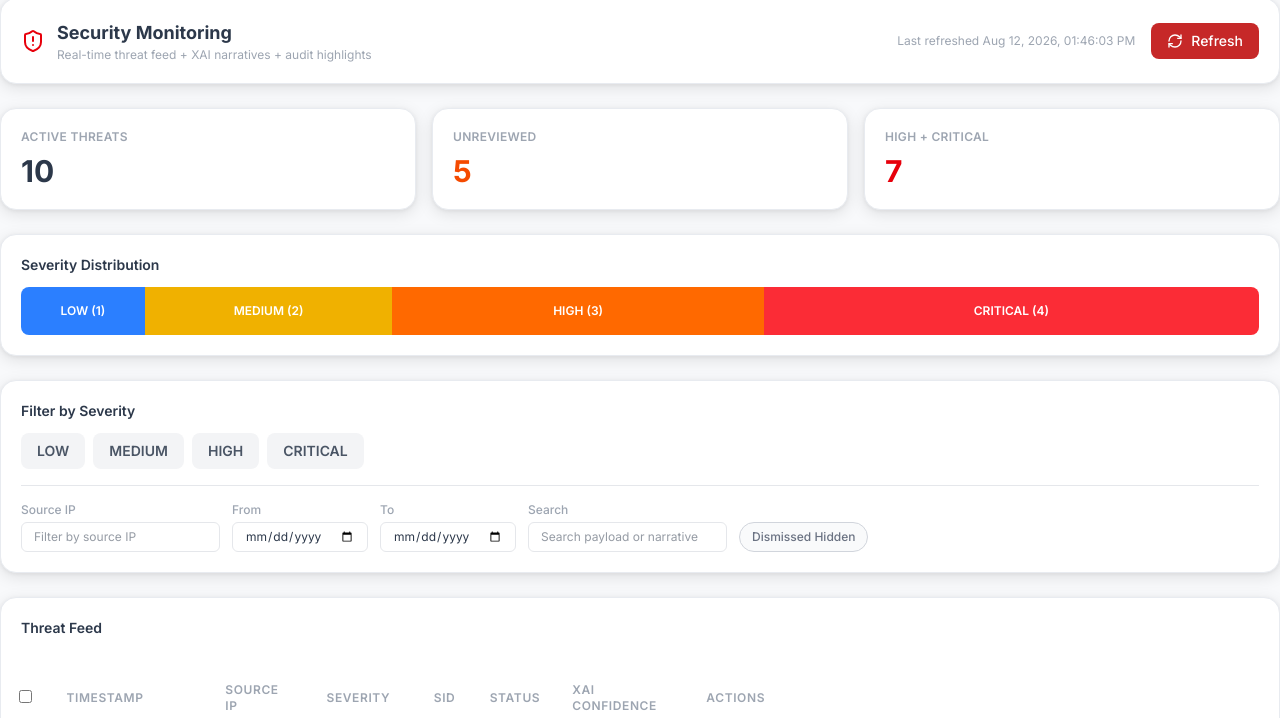
Scenario: M8: Security Monitoring page — bulk actions + S3 (Task 12) › select-all header checkbox toggles all visible rows
// Header checkbox (index 0)
Step 1. Click the checkbox → (25, 696), box [18,690,32,703]
(page scrolled)
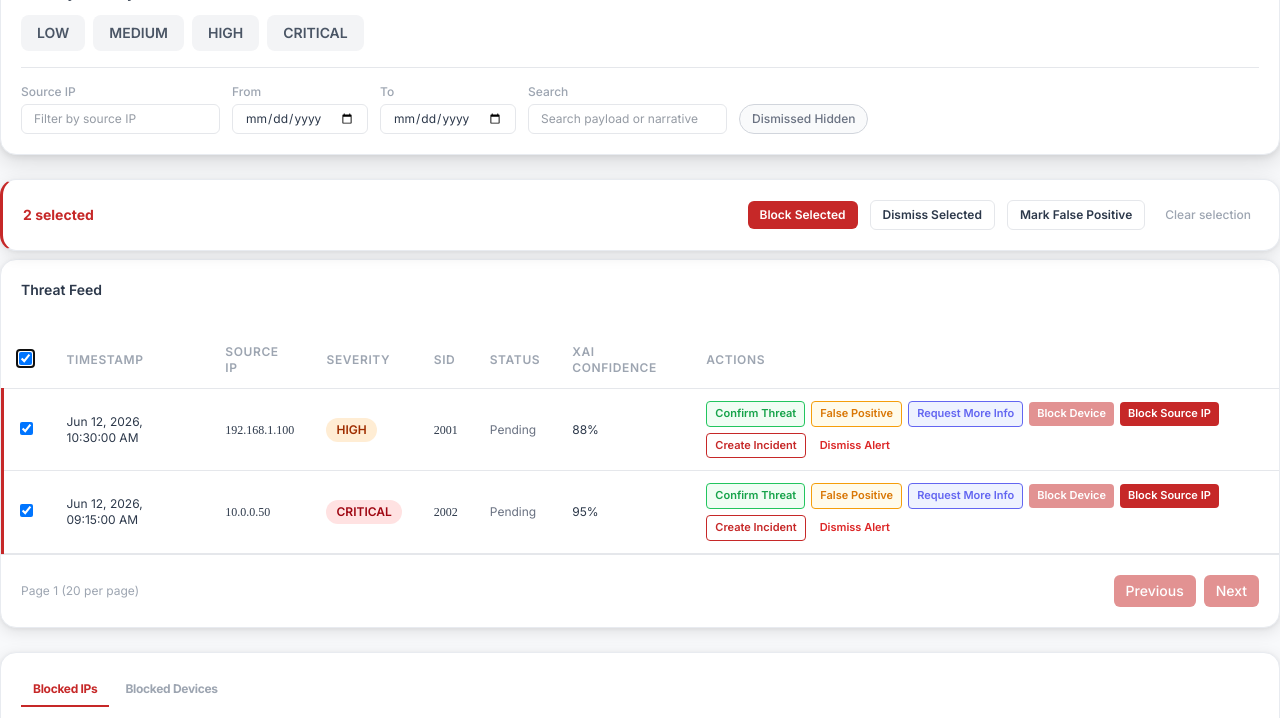
Now the element with test id "bulk-action-bar" is shown, box [0,179,1279,251]
Now the text "2 selected" is shown, box [23,205,94,225]
// Click again to deselect
Step 2. Click the checkbox next to "Timestamp" → (25, 358), box [18,352,32,365]
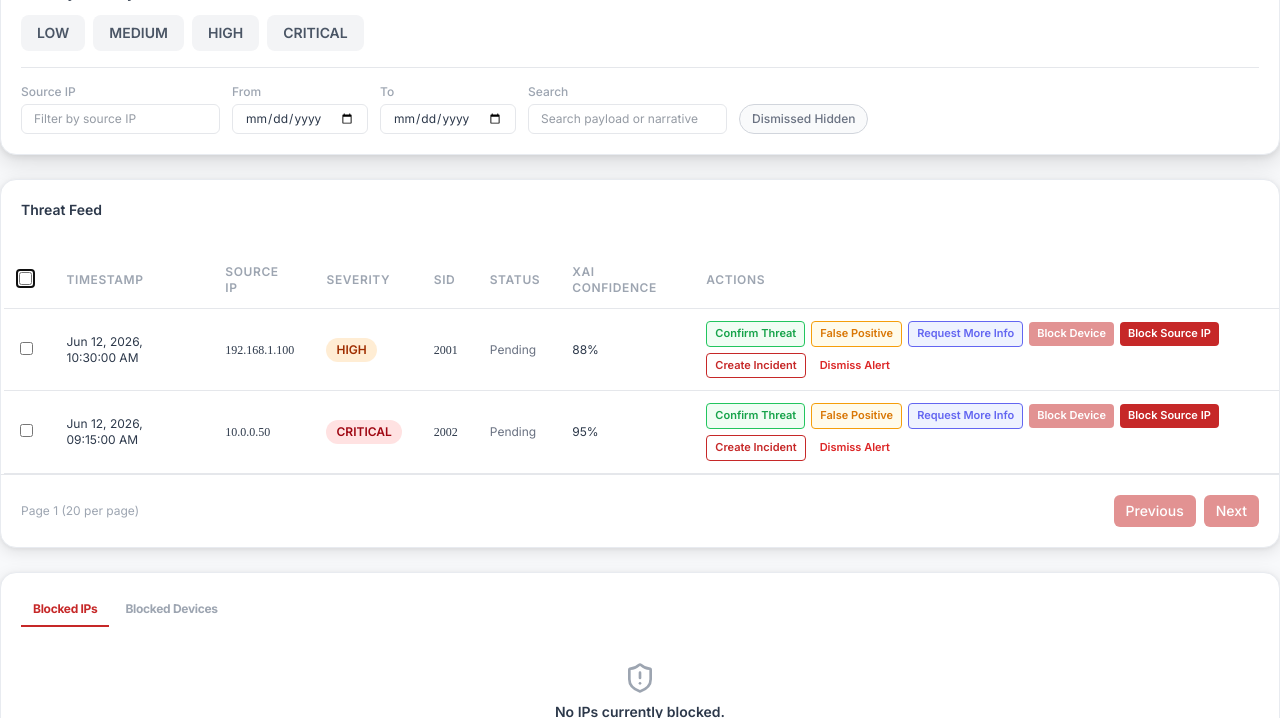
Now the element with test id "bulk-action-bar" is gone
